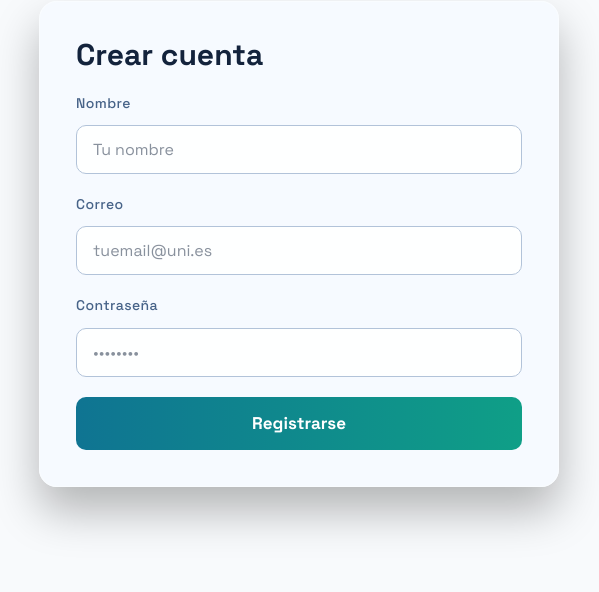
Scenario: Register page › shows duplicate email errors clearly
In the field labelled "Nombre": (299,149) top-left (76, 125), bottom-right (522, 174), type "Ada"
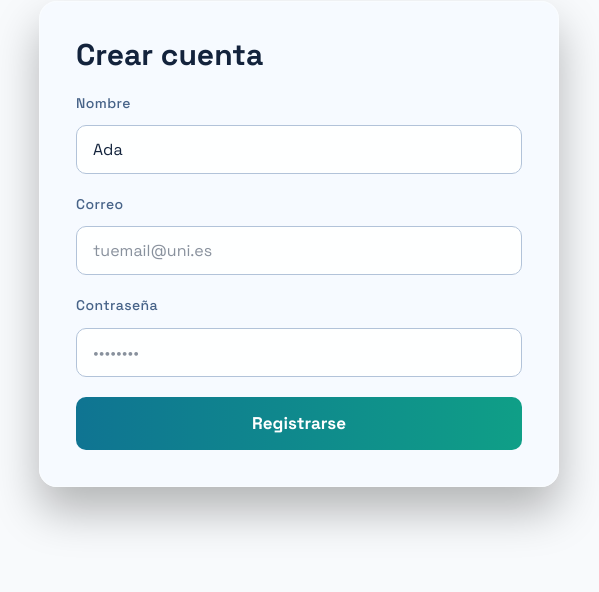
In the field labelled "Correo": (299,251) top-left (76, 226), bottom-right (522, 276), type "ada@uni.es"
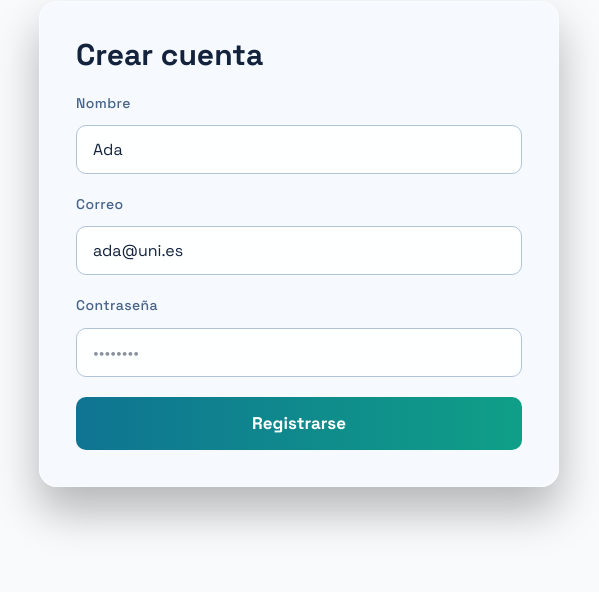
In the password field labelled "Contraseña": (299,352) top-left (76, 328), bottom-right (522, 377), type "password123"
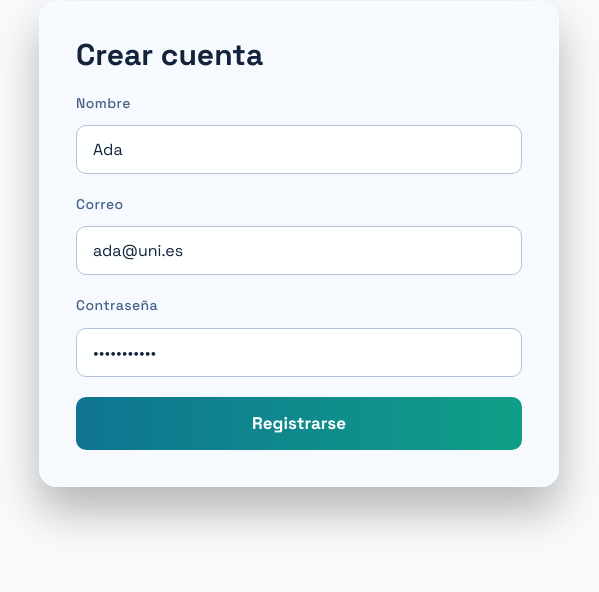
Click the button "Registrarse": (299,424) top-left (76, 397), bottom-right (522, 450)
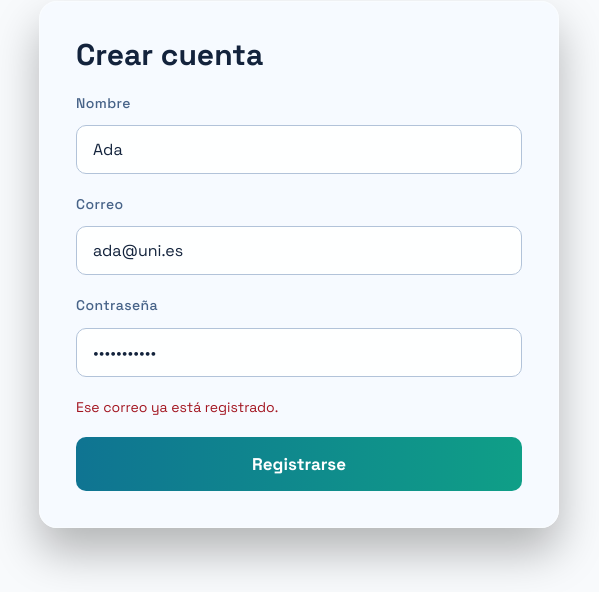
Now the text "Ese correo ya está registrado." is shown, box top-left (76, 398), bottom-right (278, 416)
